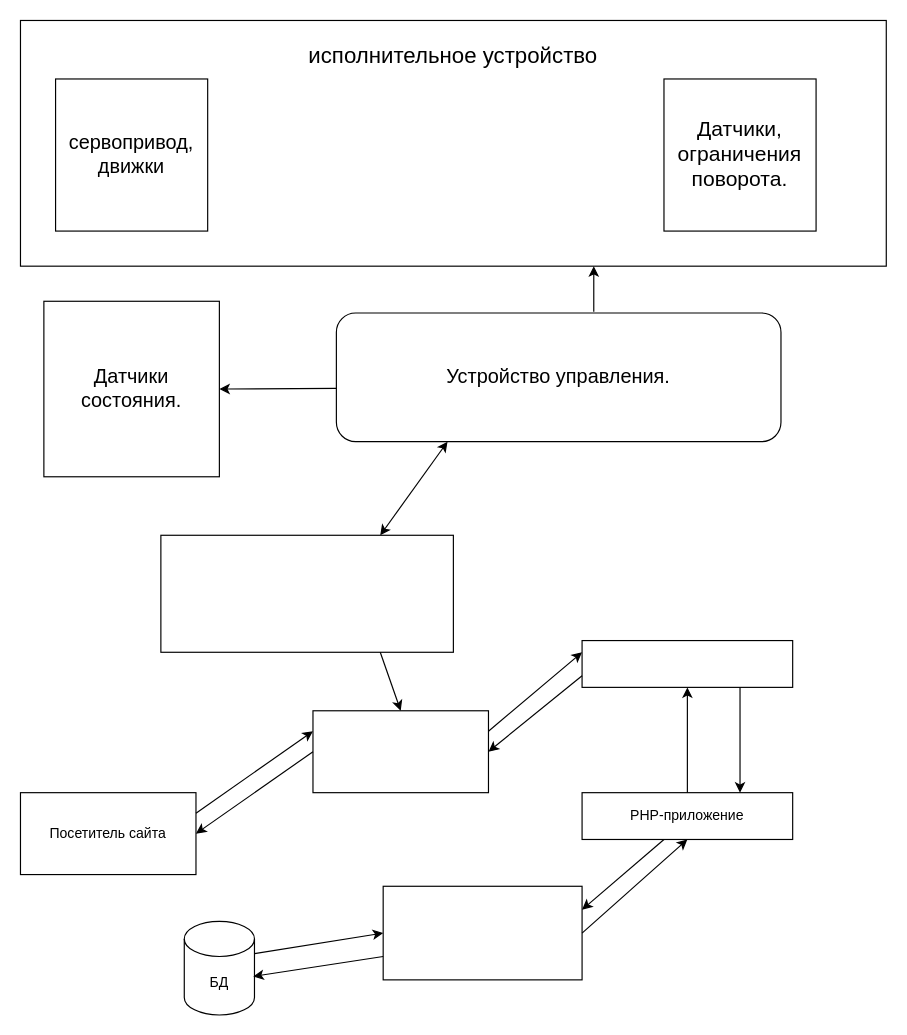
Image size: 907x1035. Some labels were removed from this diagram. The centre of each missing label's shape, as x and y in pixels:
"PHP-интерпретатор" goes at point (687, 663).
"WEB-сервер" goes at point (400, 751).
"Сервер" goes at point (306, 593).
"СУБД" goes at point (482, 932).
